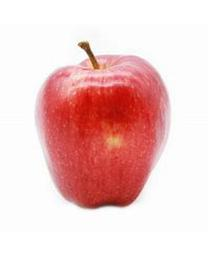apple: (33, 41, 171, 208)
